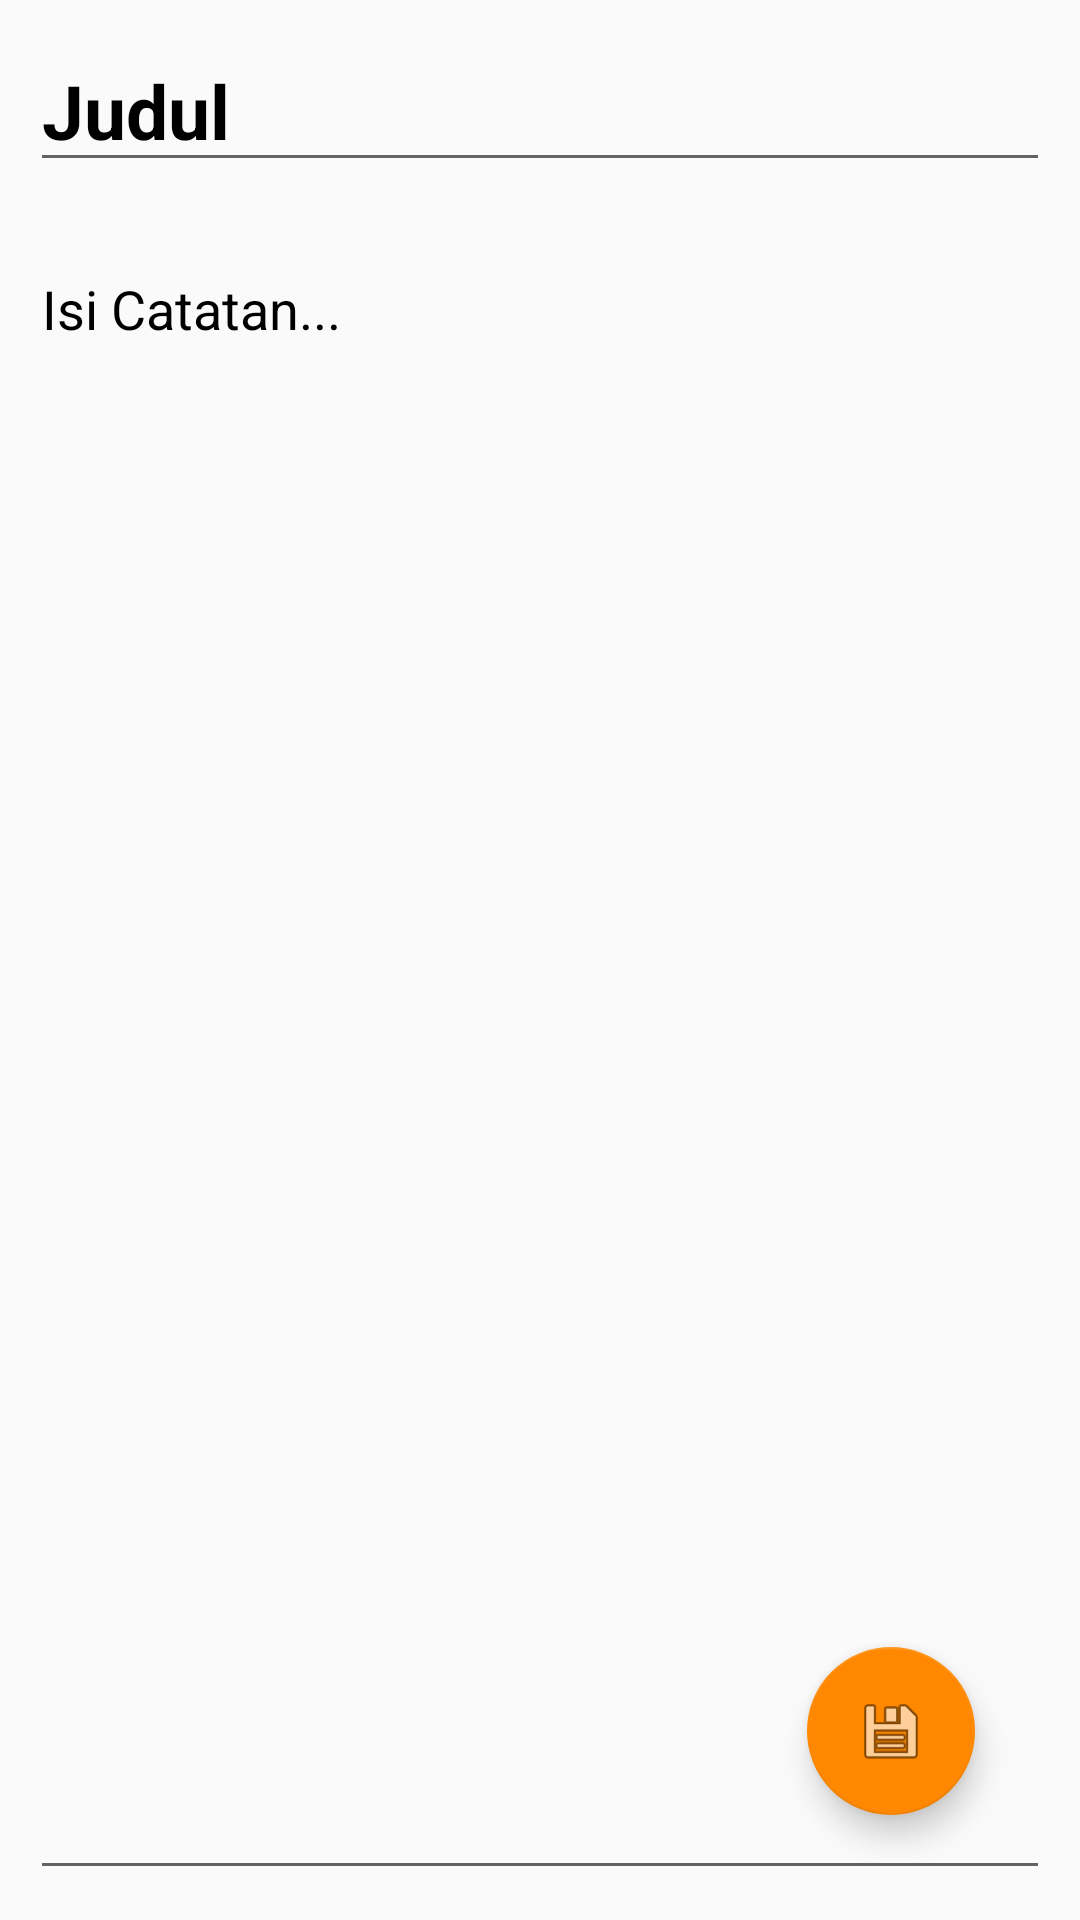

Icon click points for this 1080w x 1920h phone screenshot, format (x=x, y=y):
save: (x=891, y=1731)
